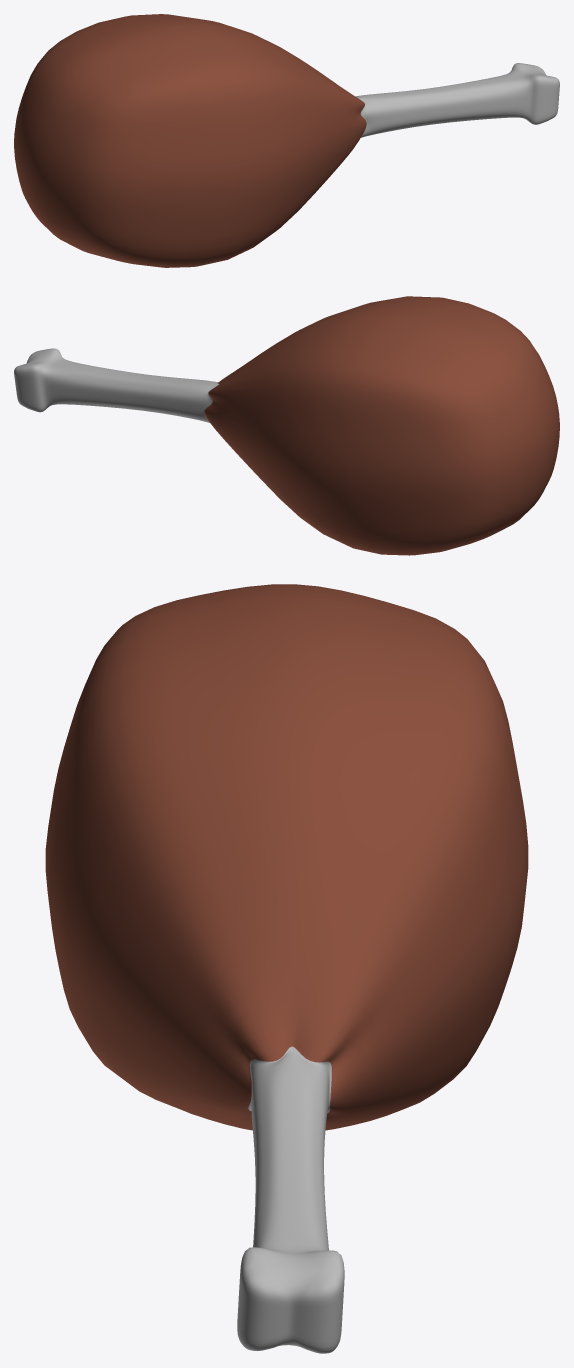
File: Ayam.fbx
3 views of the same model, one above another, from view 1: azimuth 30°, elevation 25°; view 2: azimuth 150°, elevation 25°; view 3: azimuth 270°, elevation 25° (orthographic). The views are drawn at different scales.
Visible parts, largest first — view 1: ayam.003; view 2: ayam.003; view 3: ayam.003.
Part boxes in pixels (<box>): ayam.003: <box>14,14,559,267</box>; ayam.003: <box>14,296,559,555</box>; ayam.003: <box>45,584,528,1353</box>.
Bounding box in the file's own units: 22.29 × 9.06 × 9.01.
